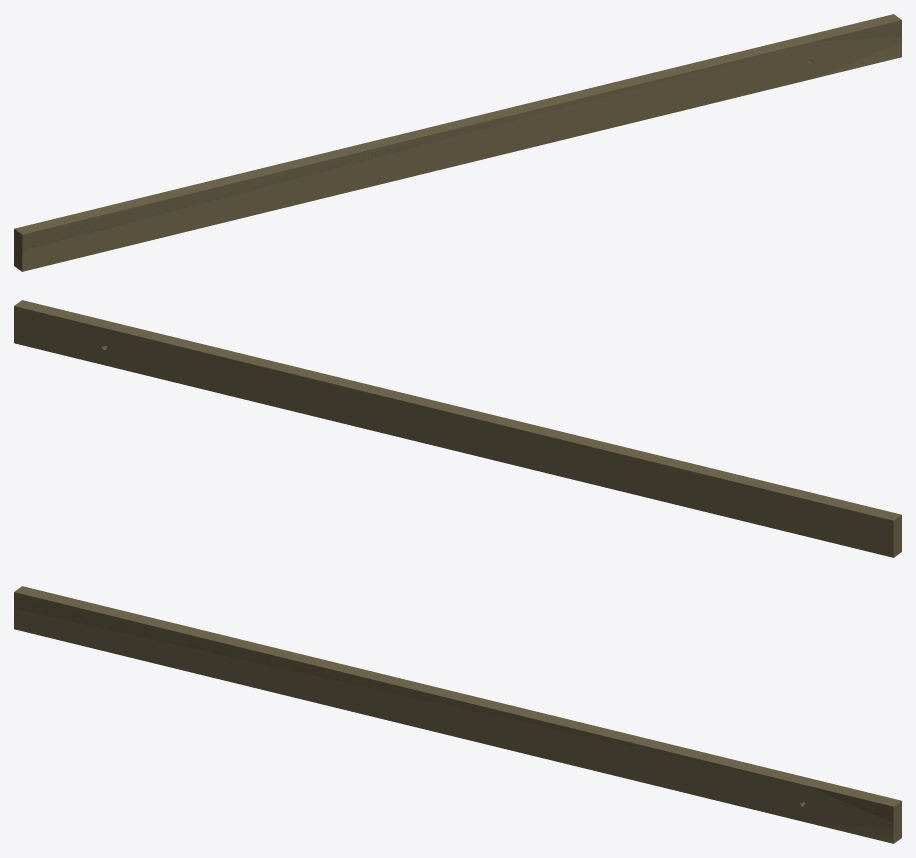
File: log_hole_fordrill_002.fbx
3 renders of one model, top to bottom at view 1: azimuth 30°, elevation 25°; view 2: azimuth 150°, elevation 25°; view 3: azimuth 330°, elevation 25°, orthographic.
Visible parts, largest first — view 1: logA007, logA008, logA003, LogA006, logA001, logA005; view 2: logA009, logA003; view 3: logA007, logA008, logA003, LogA006, logA005.
Boxes of the visible parts, x1,y1,x2,y2 form: logA007: (14, 20, 901, 271); logA008: (15, 21, 901, 271); logA003: (14, 14, 901, 270); LogA006: (14, 20, 901, 270); logA001: (16, 36, 900, 265); logA005: (14, 25, 901, 271); logA009: (14, 306, 901, 557); logA003: (14, 300, 901, 546); logA007: (14, 592, 901, 841); logA008: (14, 596, 893, 838); logA003: (14, 586, 901, 843); LogA006: (14, 592, 901, 842); logA005: (14, 593, 901, 843).
Bounding box in the file's own units: 85.95 × 3.47 × 1.39.
